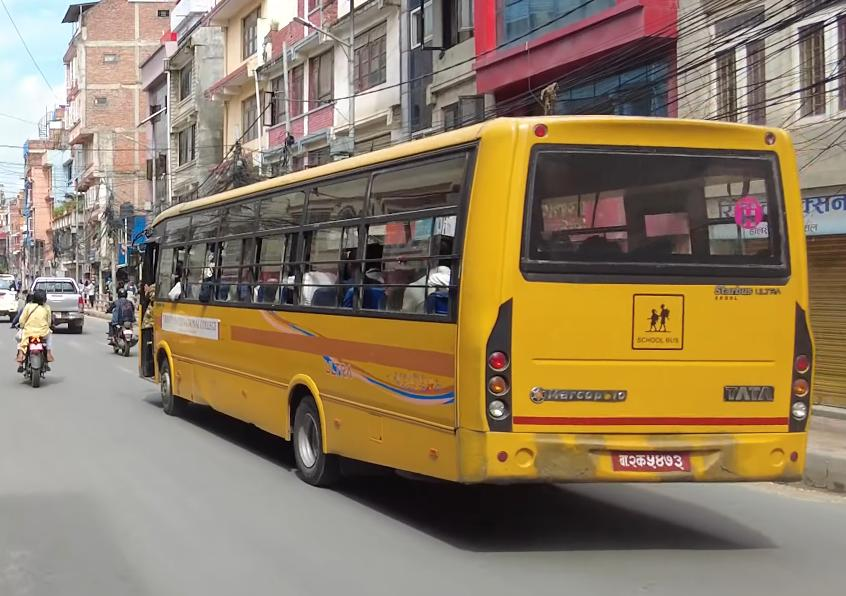bike: (14, 322, 55, 389), (102, 305, 141, 358)
school_bus: (124, 108, 827, 518)
